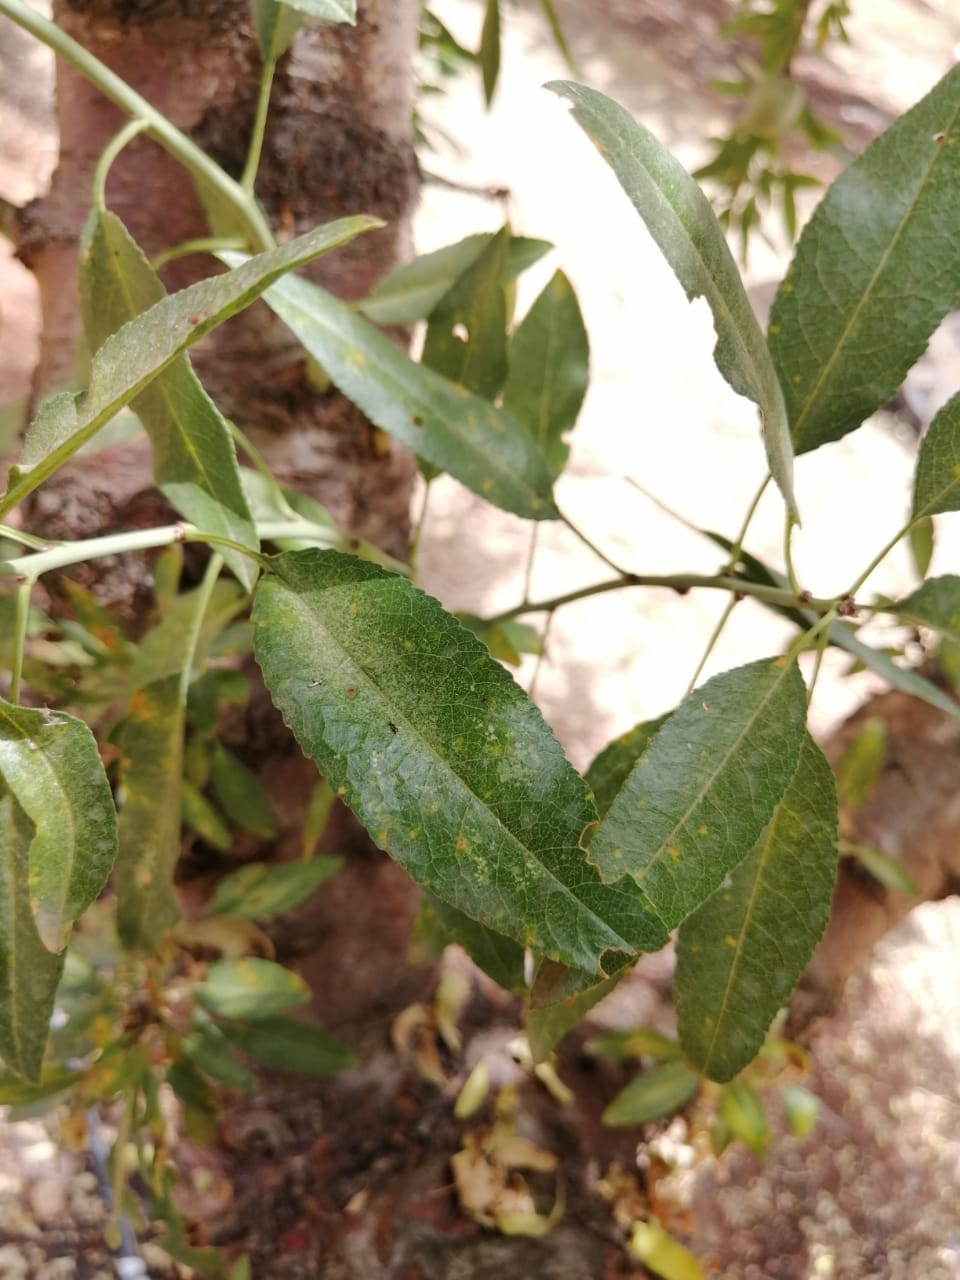faux tigre: (248, 548, 668, 980), (525, 654, 805, 1058)
